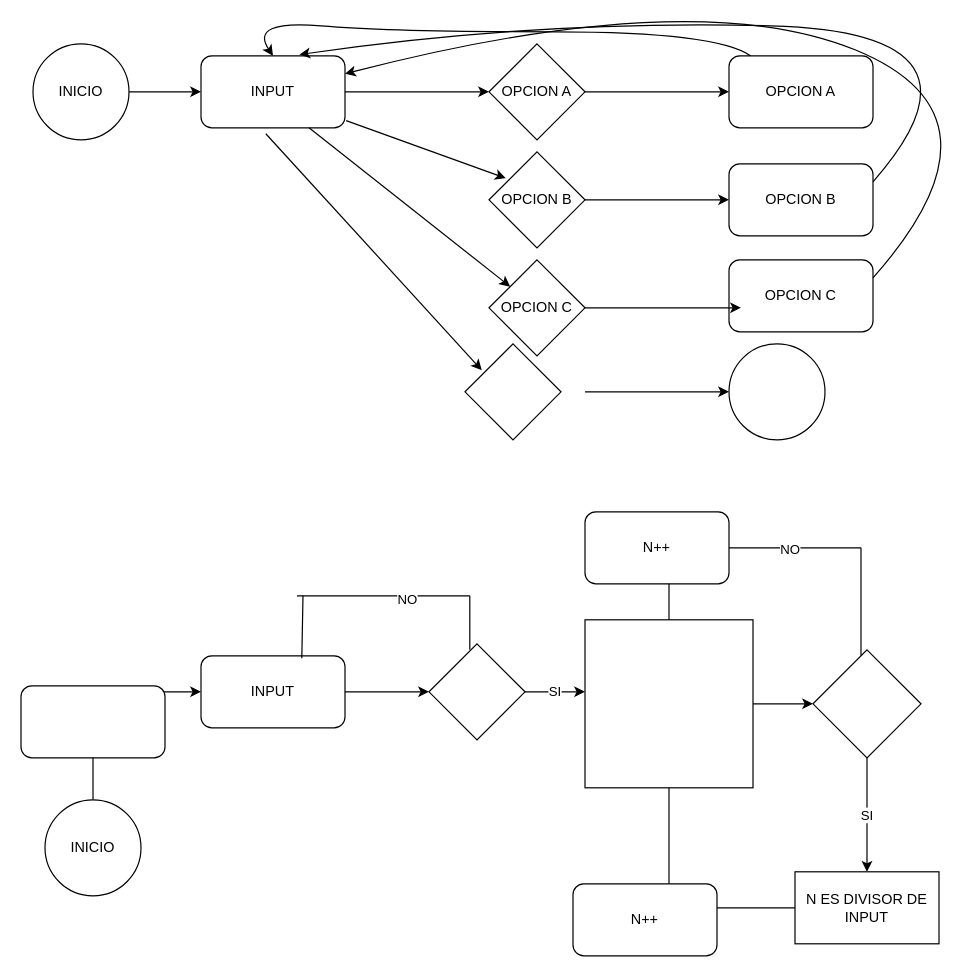
The diagram is 962 pixels wide and 977 high, and some of its shapes have lost their labels. The centre of each missing label's shape, as x and y in pixels:
"FIN" belongs at (776,391).
"INPUT > 0" belongs at (476,691).
"INPUT%N=0" belongs at (866,703).
"MIENTRAS N<=INPUT" belongs at (668,703).
"N = 0" belongs at (92,721).
"OPCION D" belongs at (512,391).
